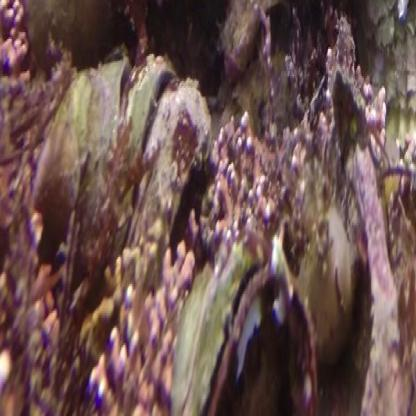Oyster- Indeterminate: (173, 238, 320, 416), (33, 55, 131, 267), (113, 57, 179, 252)
Oyster-Closed: (131, 80, 213, 246)
